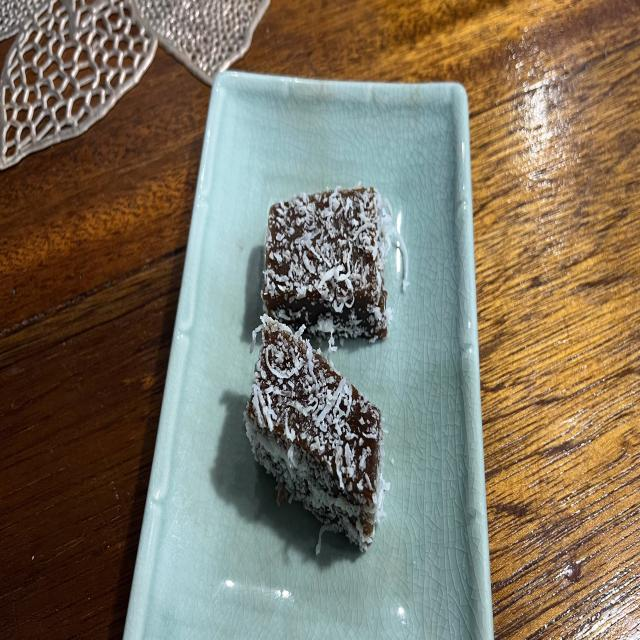kaswi: (245, 316, 384, 551), (261, 187, 408, 342)
